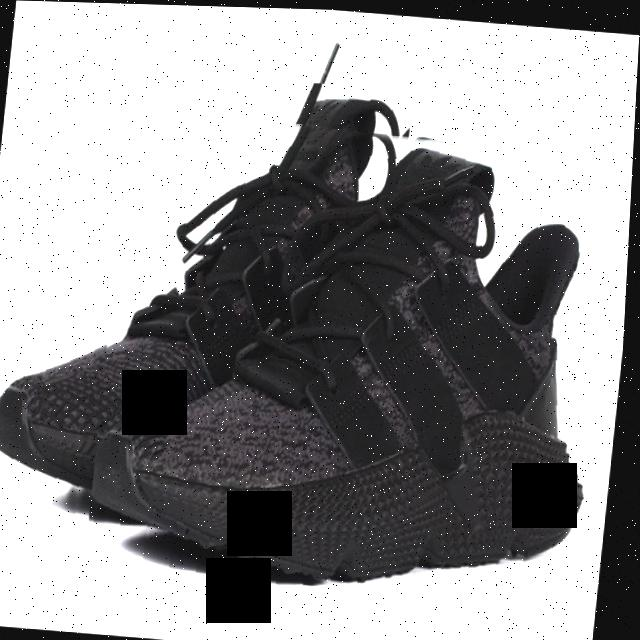shoe: (89, 103, 636, 607), (0, 58, 415, 559)
